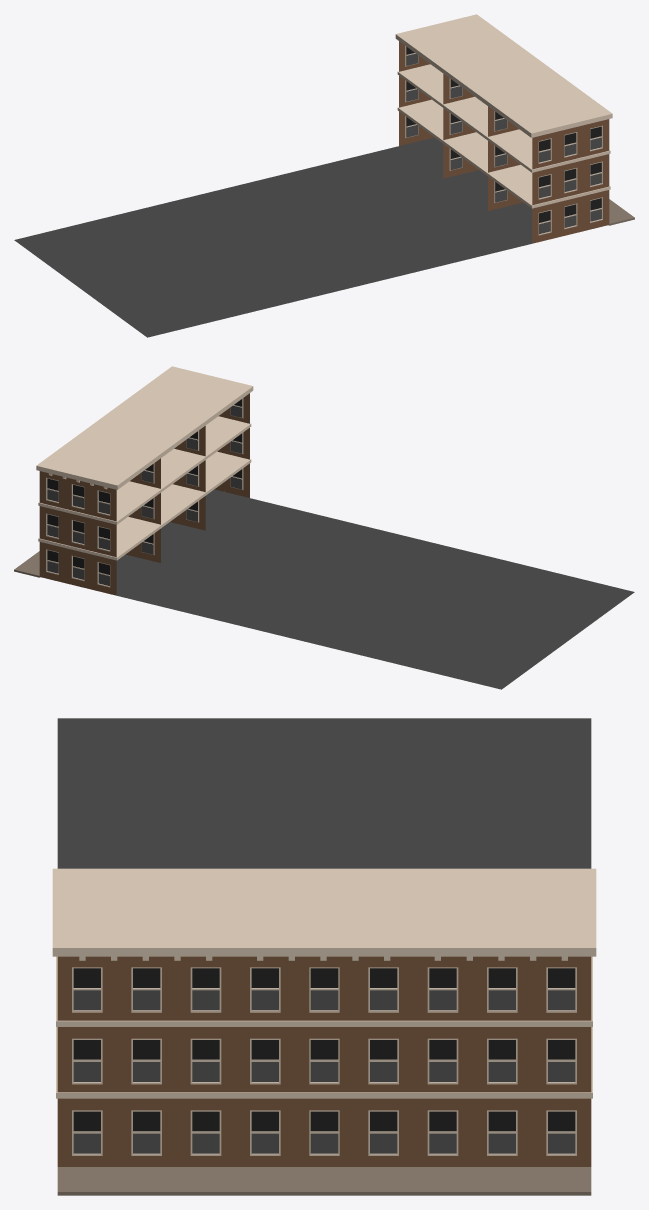
The model's file is city_right1.glb.
The picture shows the model from 3 angles, top to bottom: view 1: azimuth 30°, elevation 25°; view 2: azimuth 150°, elevation 25°; view 3: azimuth 270°, elevation 25°; orthographic projection. The views are drawn at different scales.
Visible parts, largest first — view 1: Plane.002, bigb.001, bigb.003, bigb.002; view 2: Plane.002, bigb.003, bigb.001, bigb.002; view 3: Plane.002, bigb.001, bigb.003, bigb.002, Trottoir.003.
Part boxes in pixels (<box>): Plane.002: <box>14,137,532,337</box>; bigb.001: <box>485,80,612,243</box>; bigb.003: <box>395,14,523,145</box>; bigb.002: <box>440,47,567,178</box>; Plane.002: <box>116,489,634,689</box>; bigb.003: <box>36,431,162,595</box>; bigb.001: <box>126,366,253,497</box>; bigb.002: <box>83,399,206,530</box>; Plane.002: <box>57,718,591,868</box>; bigb.001: <box>52,868,240,1166</box>; bigb.003: <box>408,868,596,1166</box>; bigb.002: <box>230,868,418,1166</box>; Trottoir.003: <box>57,1167,591,1195</box>.
Size of the model in its own units: 57 by 12.56 by 27.51.
